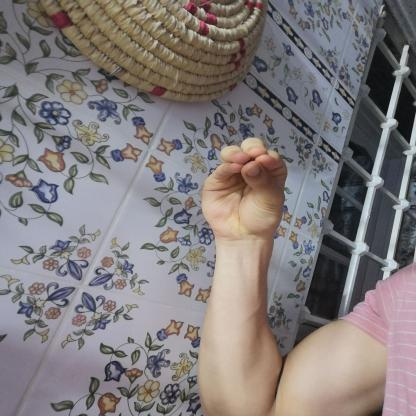HA: (187, 121, 310, 256)
